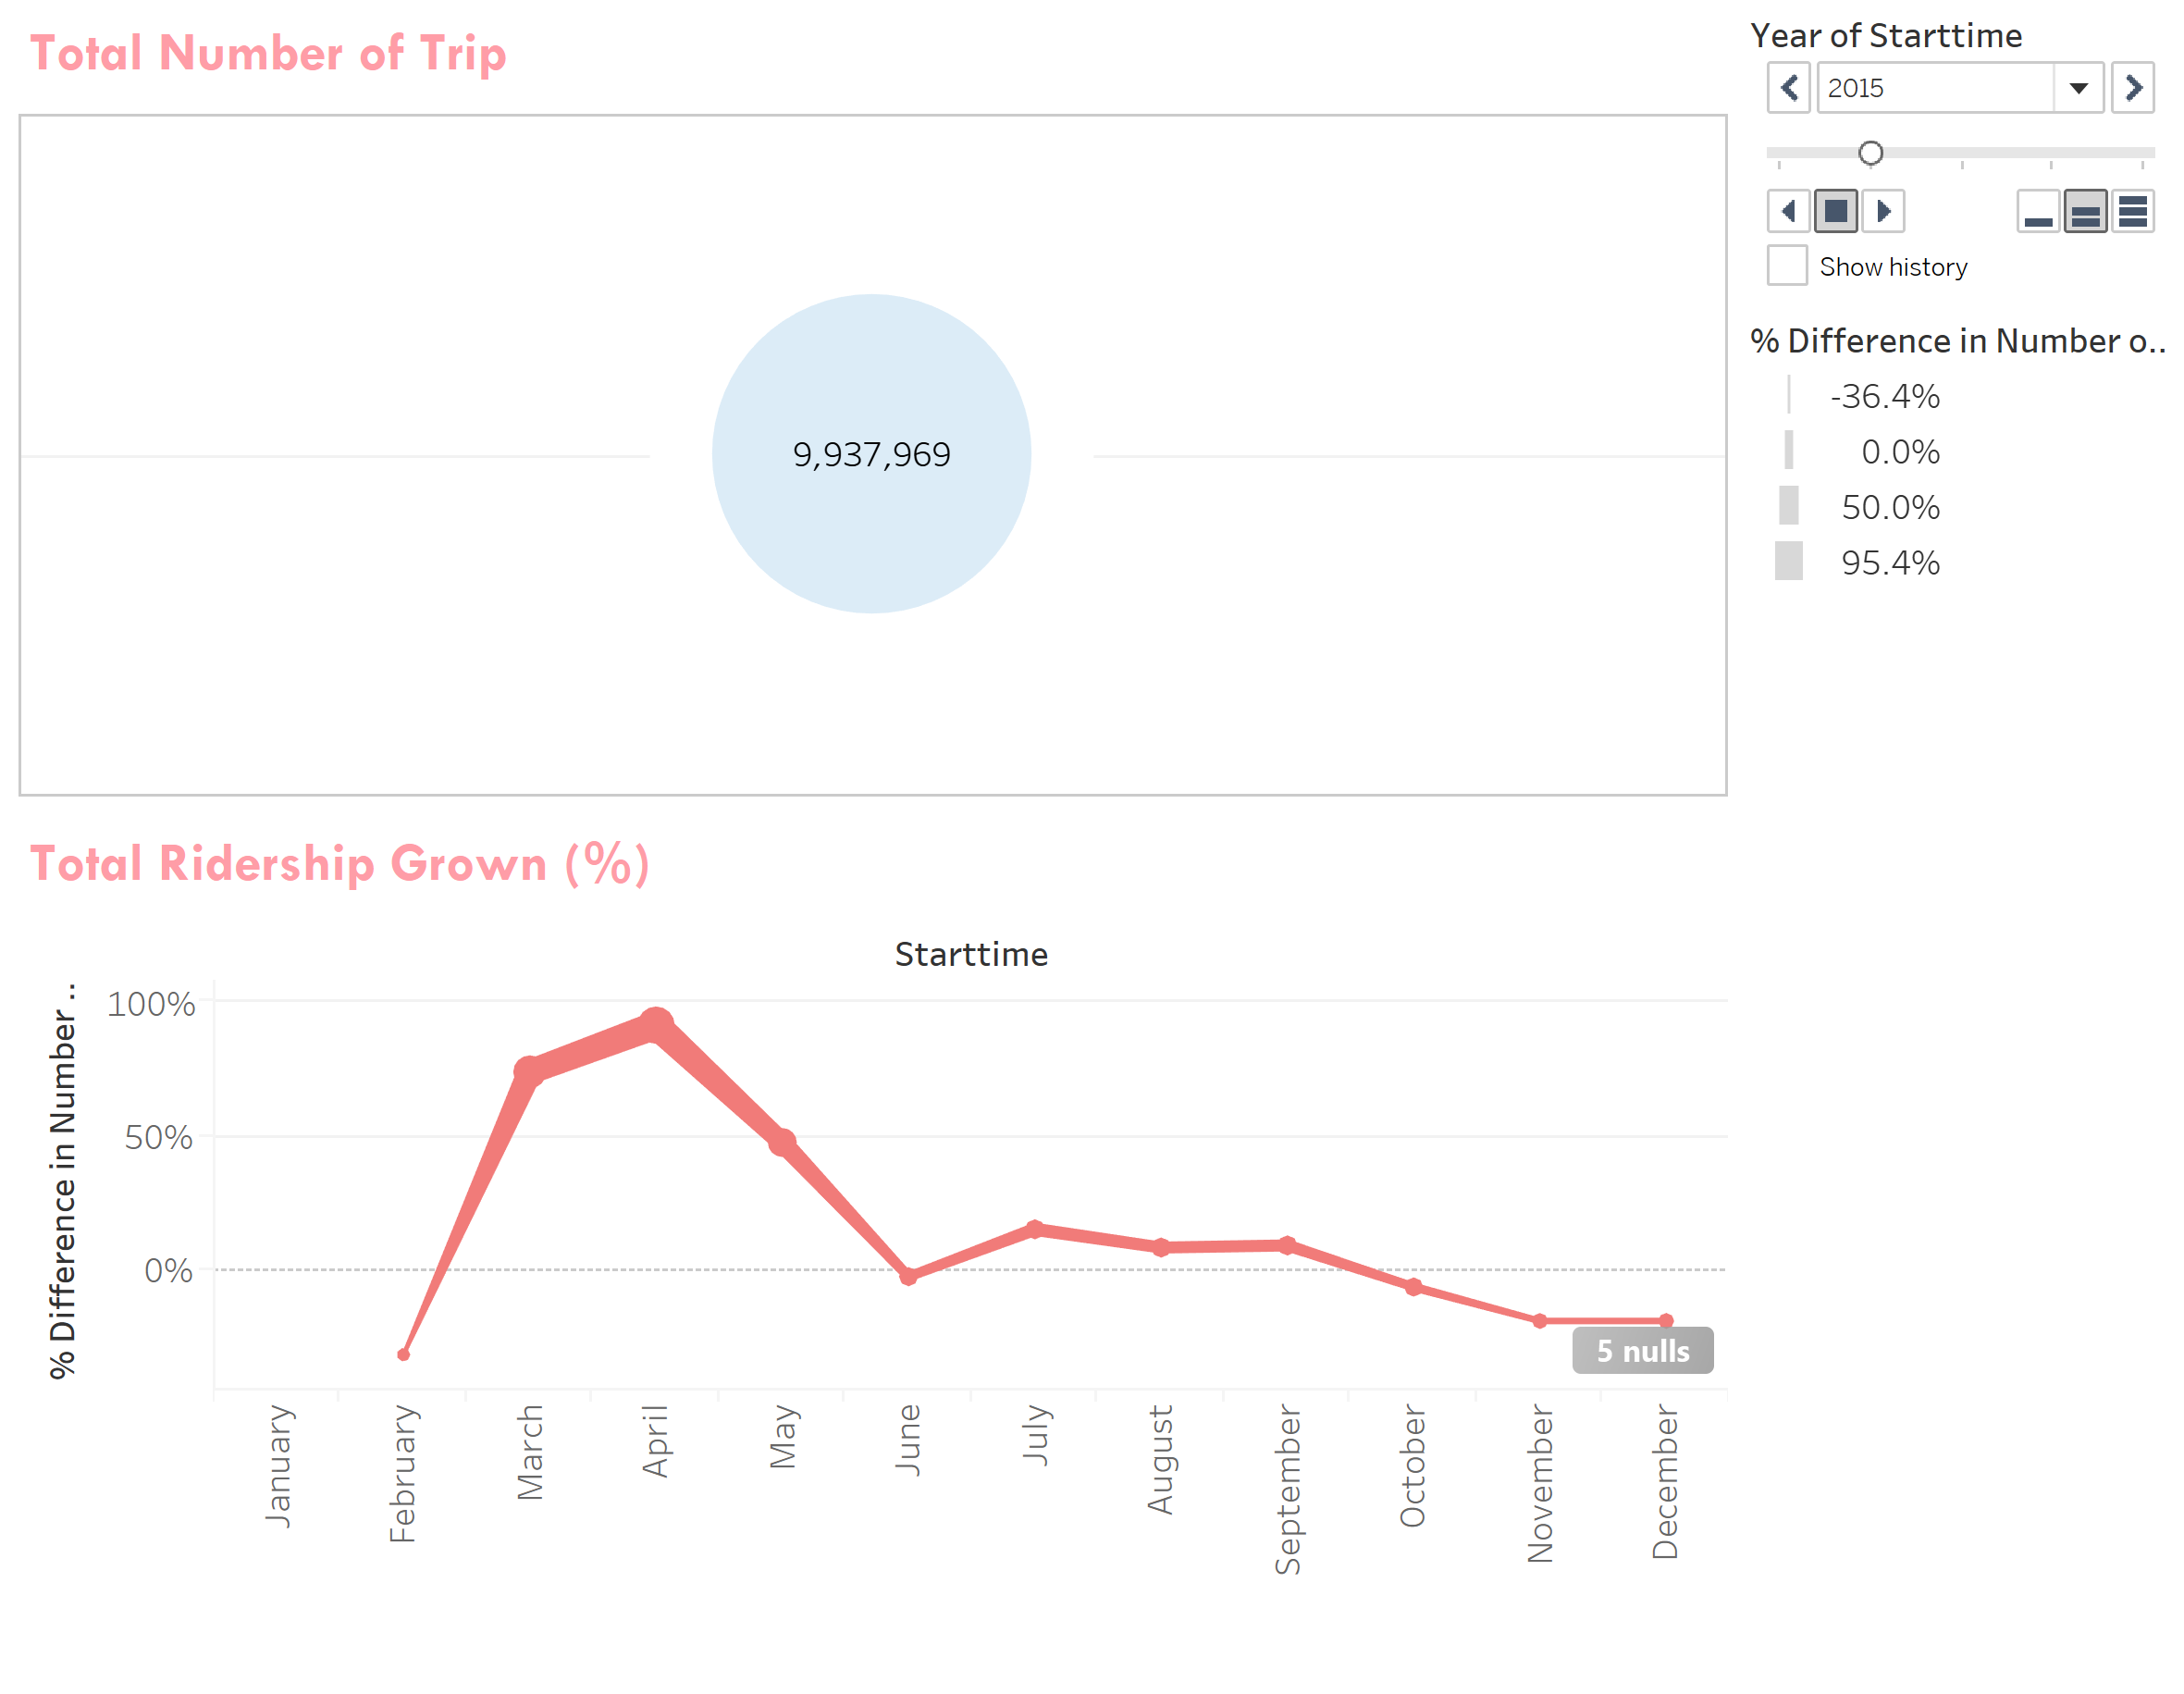

Layout of this report page (visuals, bound fields, positions):
{"tool":"tableau","page":{"name":"Dashboard 1","canvas":[800,600],"ordinal":0},"visuals":[{"type":"worksheet","title":"Sheet 22","mark":"Pie","rows":["Number of Records","Number of Records"],"box":[8,8,624,292]},{"type":"currpage","title":"Sheet 22","box":[632,8,160,110]},{"type":"legend","title":"Sheet 23","param":"[federated.0o6bcyj08k7vi61bhyd3708n9wq9].[pcdf:sum:Number of Records:qk:1]","box":[632,118,160,106]},{"type":"worksheet","title":"Sheet 23","mark":"Line","cols":["starttime"],"box":[8,300,624,292]}]}

Visuals, with their boxes on the page's 800x600 design canvas (x1, y1, x2, y2). These are canvas units, not pixel positions in the 2184x1694 screenshot, which may show the page scaled, cropped or inside an application window:
"Sheet 22" worksheet (Pie marks): [left=8, top=8, right=632, bottom=300]
"Sheet 22" currpage: [left=632, top=8, right=792, bottom=118]
"Sheet 23" legend: [left=632, top=118, right=792, bottom=224]
"Sheet 23" worksheet (Line marks): [left=8, top=300, right=632, bottom=592]
